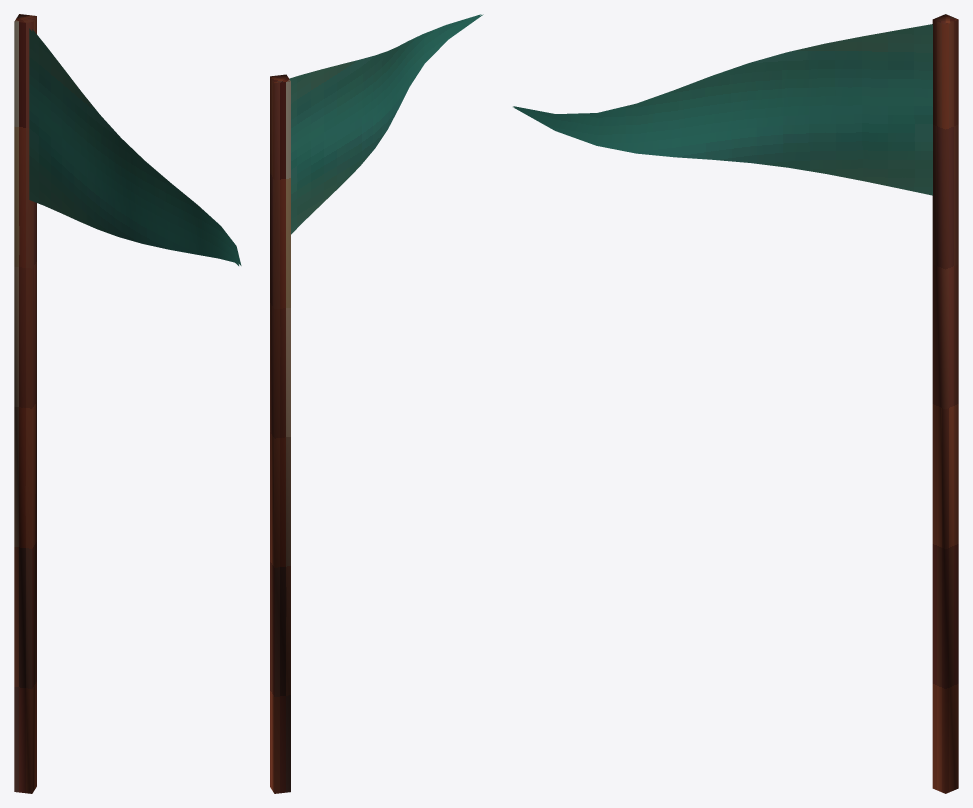
Rendered from PENNANT3_ACTORDEF.fbx.
3 renders of one model, left to right at view 1: azimuth 30°, elevation 25°; view 2: azimuth 150°, elevation 25°; view 3: azimuth 270°, elevation 25°, orthographic. The views are drawn at different scales.
Visible parts, largest first — view 1: U3DMesh; view 2: U3DMesh; view 3: U3DMesh.
Boxes of the visible parts, left/top/right/bottom form: U3DMesh: left=14, top=14, right=241, bottom=793; U3DMesh: left=270, top=14, right=483, bottom=793; U3DMesh: left=513, top=14, right=958, bottom=793.
Bounding box in the file's own units: 0.4263 × 9.8 × 5.15.
